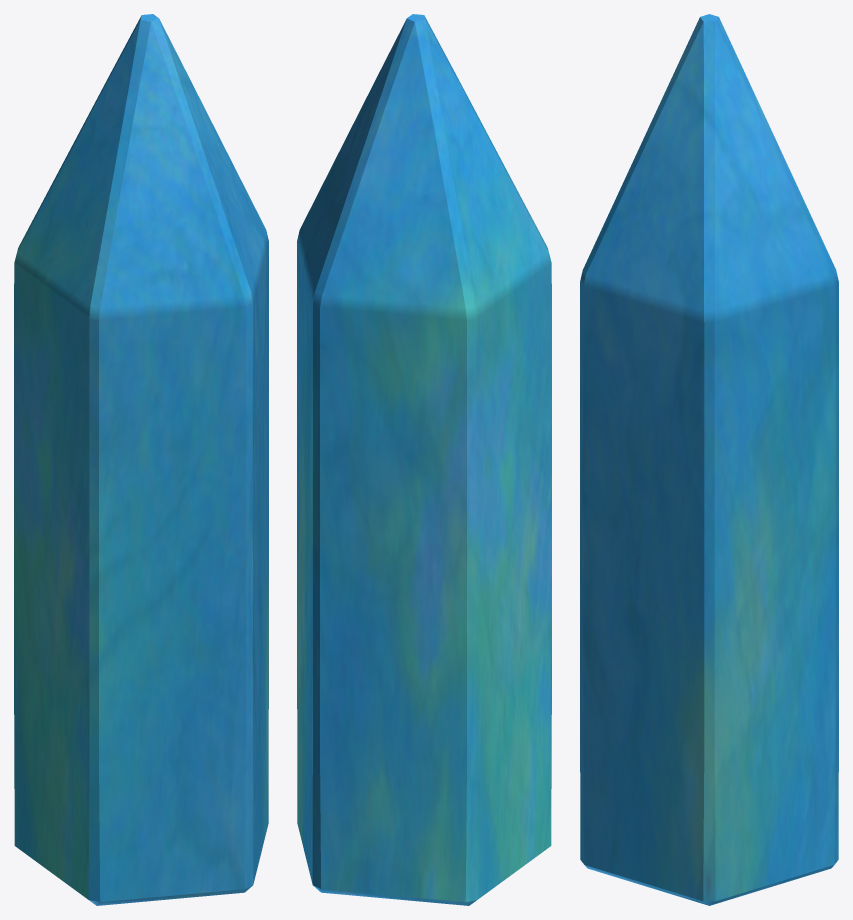
File: Crystal1.fbx
The picture shows the model from 3 angles, left to right: view 1: azimuth 30°, elevation 25°; view 2: azimuth 150°, elevation 25°; view 3: azimuth 270°, elevation 25°; orthographic projection.
Parts seen in each view (by area): view 1: Cristal1; view 2: Cristal1; view 3: Cristal1.
Part boxes in pixels (x1,y1,x2,y2): Cristal1: (14,14,268,905); Cristal1: (297,14,551,905); Cristal1: (580,14,838,905).
Size of the model in its own units: 1.52 by 5.66 by 1.59.
Materials: 1 (1 with a texture image).
